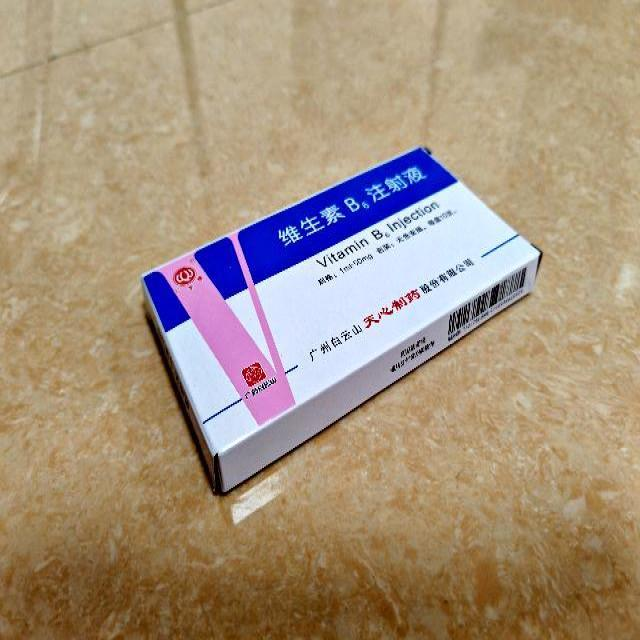box: (140, 145, 540, 492)
